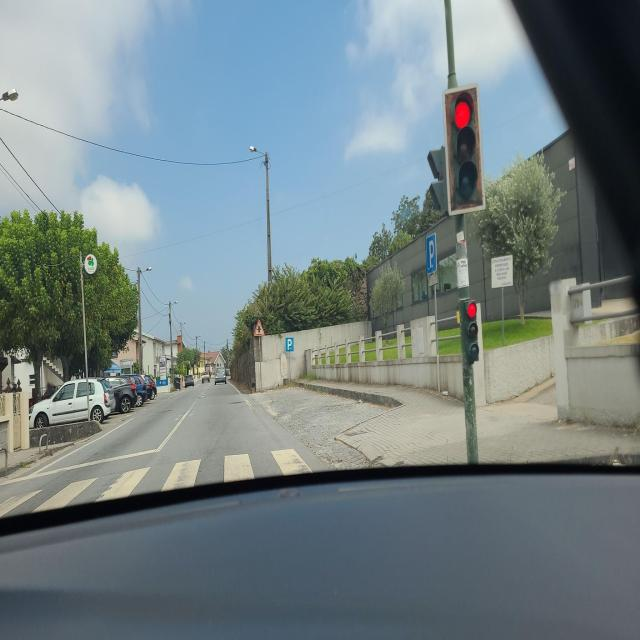car: (28, 376, 114, 436), (104, 379, 134, 414), (123, 374, 147, 406), (141, 374, 157, 398), (215, 366, 226, 386), (185, 374, 195, 388), (201, 371, 210, 385)
